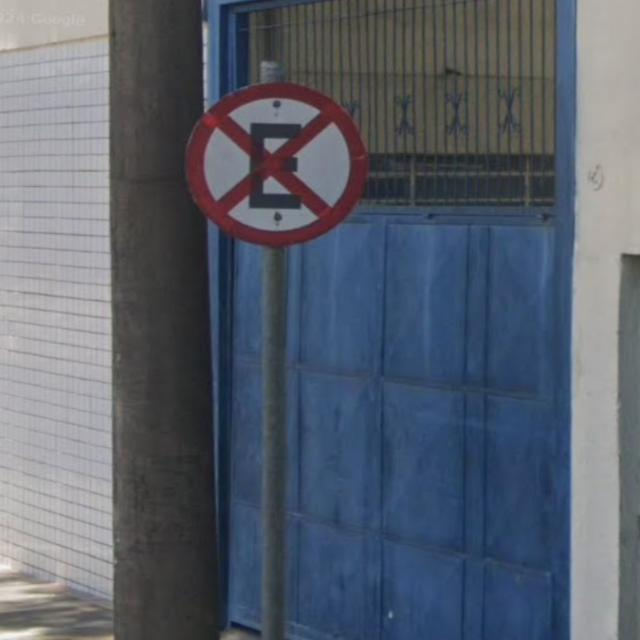no parking: (158, 69, 393, 265)
